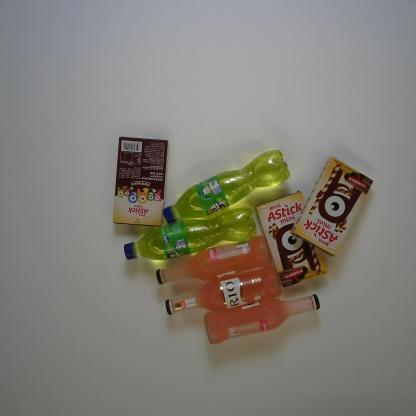Alcohol: (203, 292, 321, 346), (154, 233, 274, 286), (164, 263, 284, 316)
Dessert: (290, 156, 374, 258), (254, 189, 329, 289), (112, 136, 169, 227)
Drink: (162, 149, 292, 225), (123, 205, 258, 261)
